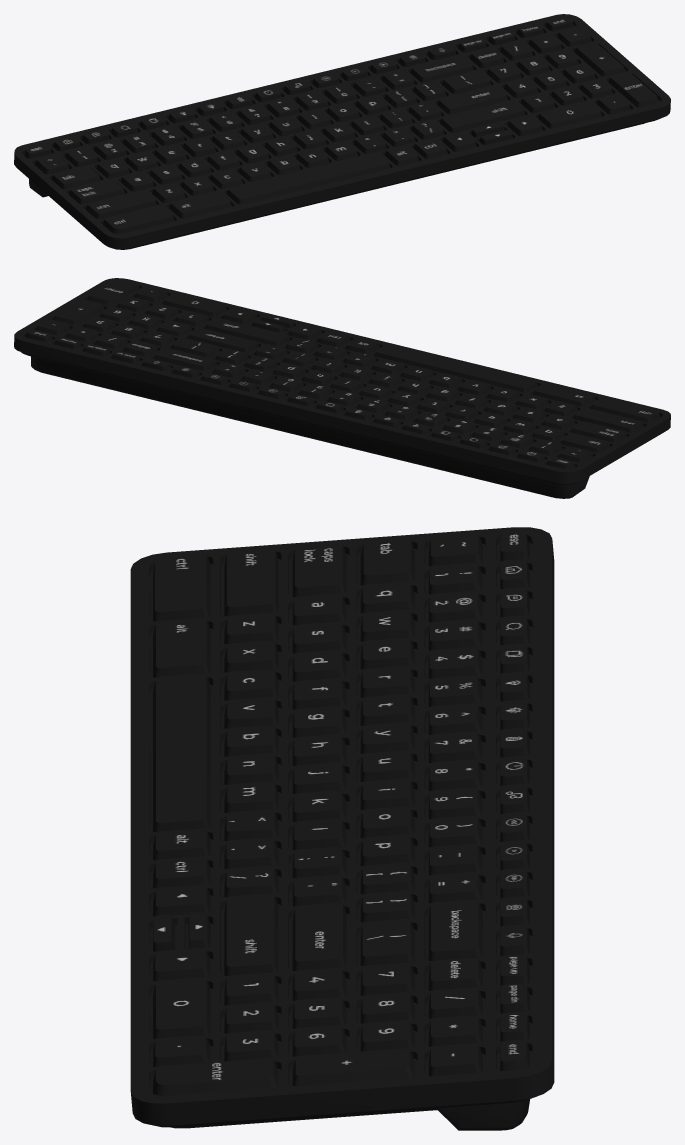
Rendered from Keyboard.glb.
3 renders of one model, top to bottom at view 1: azimuth 30°, elevation 25°; view 2: azimuth 150°, elevation 25°; view 3: azimuth 270°, elevation 25°, orthographic. The views are drawn at different scales.
Visible parts, largest first — view 1: keys, keyboard.001; view 2: keys, keyboard.001; view 3: keys, keyboard.001.
Boxes of the visible parts, x1,y1,x2,y2 form: keys: [23, 17, 660, 234]; keyboard.001: [14, 14, 670, 249]; keys: [25, 280, 660, 469]; keyboard.001: [14, 278, 670, 498]; keys: [149, 530, 532, 1095]; keyboard.001: [130, 527, 554, 1130].
Bounding box in the file's own units: 0.5336 × 0.0332 × 0.1734.
1 material, 1 textured.
